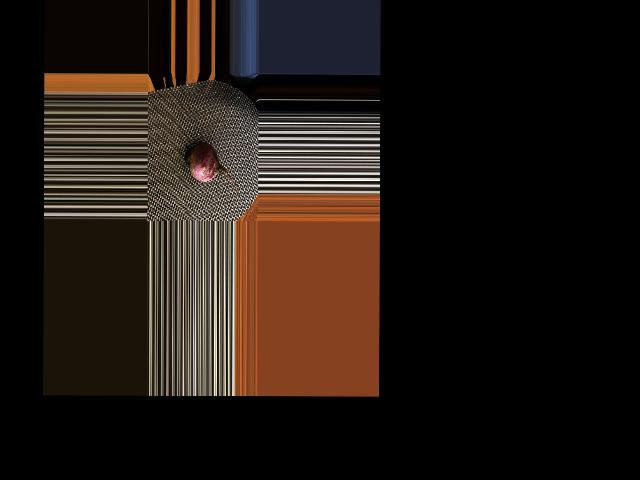beet: (183, 141, 239, 199)
